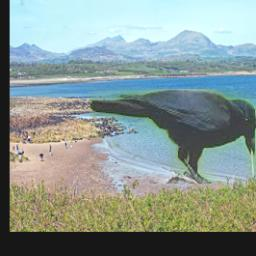Crow: (90, 89, 256, 184)
